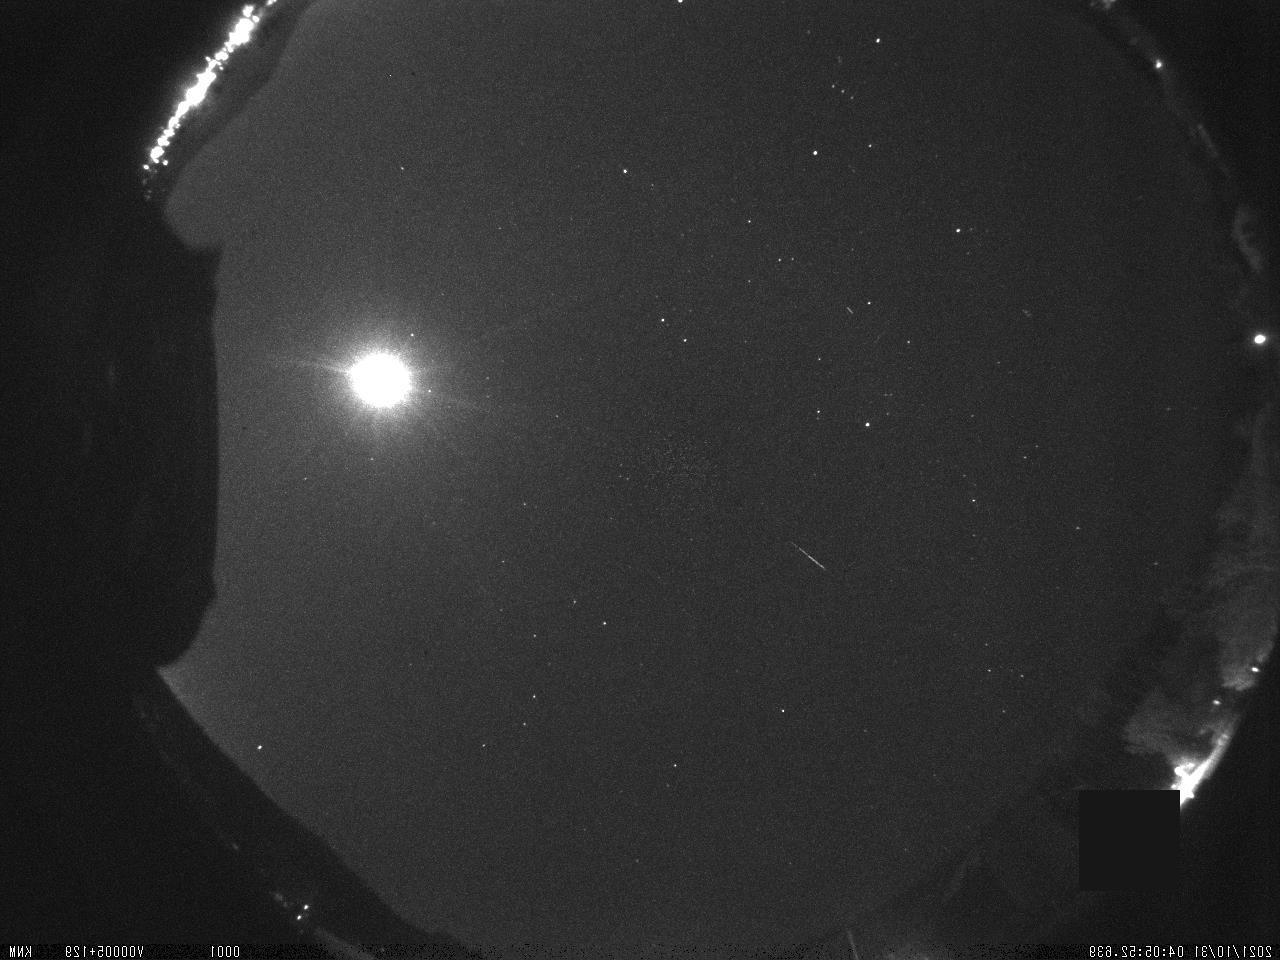meteor: (781, 532, 844, 579)
